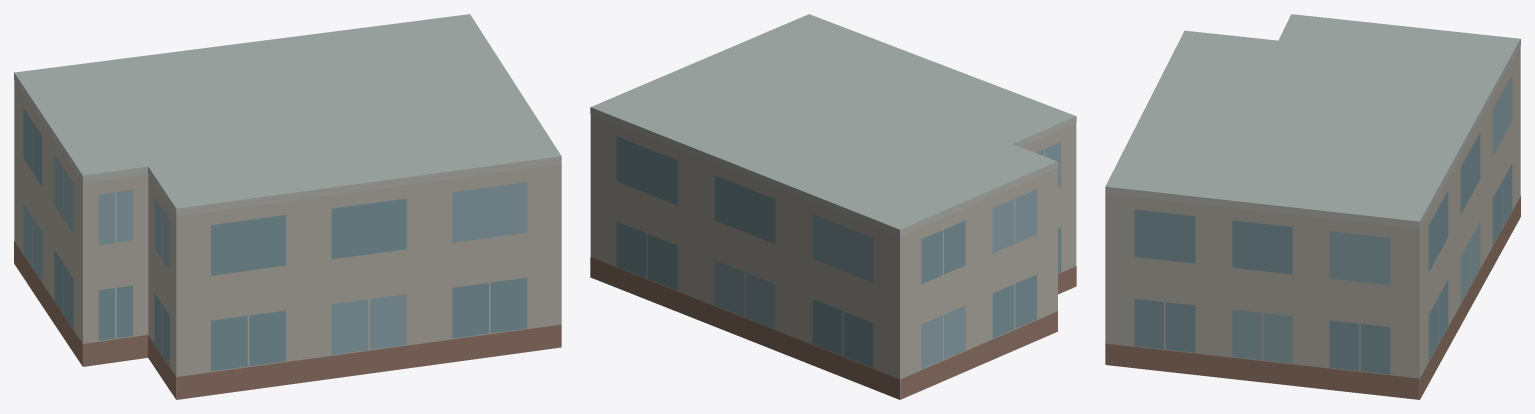
Rendered from survey-upis-32662826.glb.
3 views of the same model, side by side, from view 1: azimuth 30°, elevation 25°; view 2: azimuth 150°, elevation 25°; view 3: azimuth 270°, elevation 25° (orthographic). The views are drawn at different scales.
Parts seen in each view (by area): view 1: survey-upis-32662826.tmp; view 2: survey-upis-32662826.tmp; view 3: survey-upis-32662826.tmp.
Boxes of the visible parts, bbox=[...] form: survey-upis-32662826.tmp: bbox=[14, 14, 561, 399]; survey-upis-32662826.tmp: bbox=[590, 14, 1076, 399]; survey-upis-32662826.tmp: bbox=[1105, 14, 1520, 399].
Bounding box in the file's own units: 15.24 × 6.1 × 12.89.
